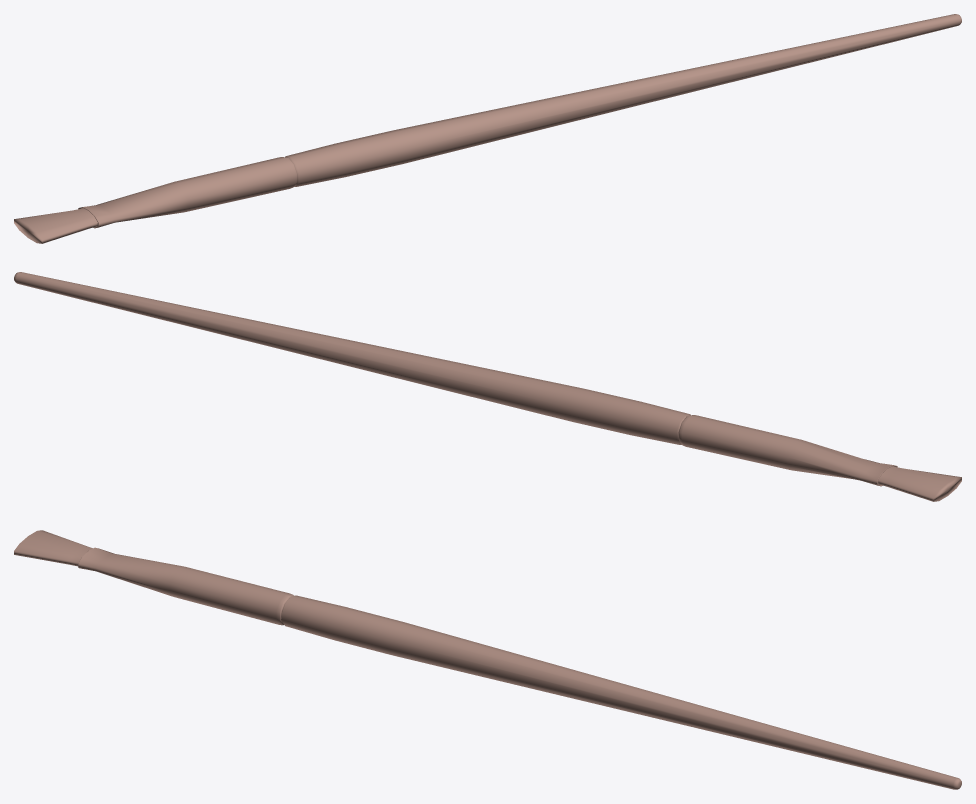
File: brush3.fbx
3 renders of one model, top to bottom at view 1: azimuth 30°, elevation 25°; view 2: azimuth 150°, elevation 25°; view 3: azimuth 330°, elevation 25°, orthographic.
Parts seen in each view (by area): view 1: pCylinder2; view 2: pCylinder2; view 3: pCylinder2.
Part boxes in pixels (x1,y1,x2,y2): pCylinder2: (14, 14, 961, 243); pCylinder2: (14, 272, 961, 501); pCylinder2: (14, 530, 961, 789).
Bounding box in the file's own units: 0.4408 × 0.0148 × 0.0232.
